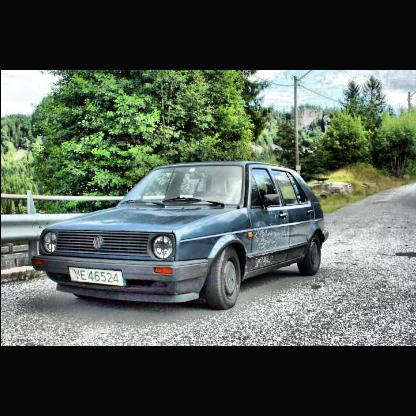Volkswagen Golf Hatchback 1991: (32, 162, 331, 311)
